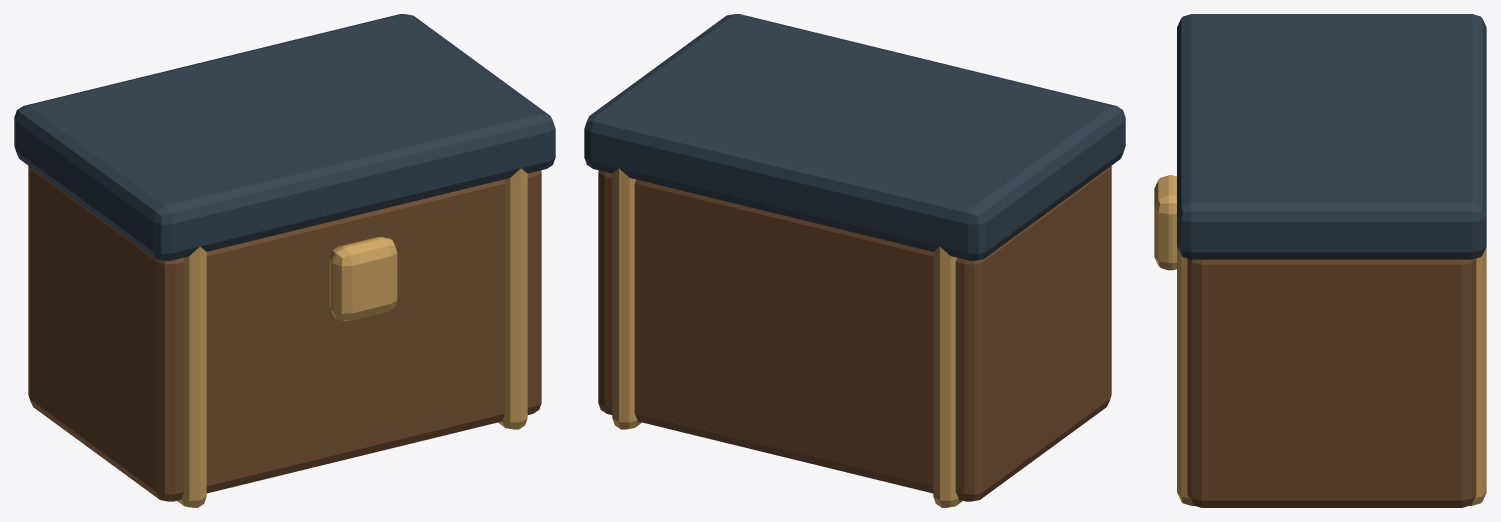
The model's file is SM_Chest.fbx.
The picture shows the model from 3 angles, left to right: view 1: azimuth 30°, elevation 25°; view 2: azimuth 150°, elevation 25°; view 3: azimuth 270°, elevation 25°; orthographic projection. The views are drawn at different scales.
Parts seen in each view (by area): view 1: SM_Chest; view 2: SM_Chest; view 3: SM_Chest.
Boxes of the visible parts, x1,y1,x2,y2 form: SM_Chest: (14, 14, 555, 507); SM_Chest: (584, 14, 1125, 507); SM_Chest: (1154, 14, 1486, 507).
Size of the model in its own units: 115 by 80.5 by 84.5.
